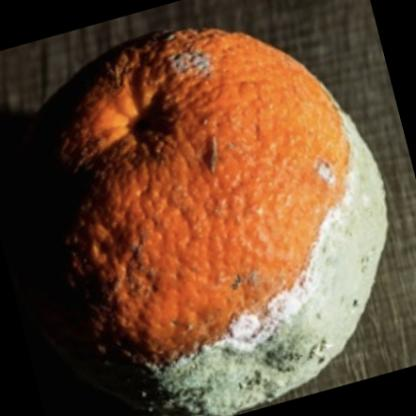rotten: (24, 27, 388, 415)
